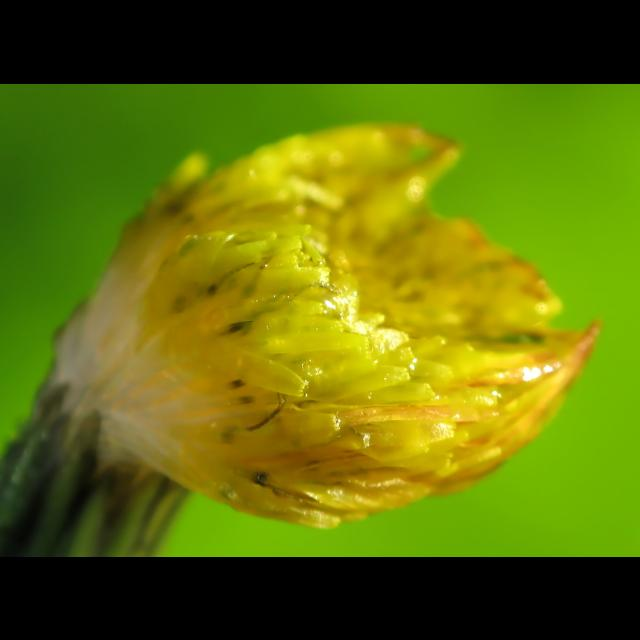Flower: (26, 132, 590, 544)
